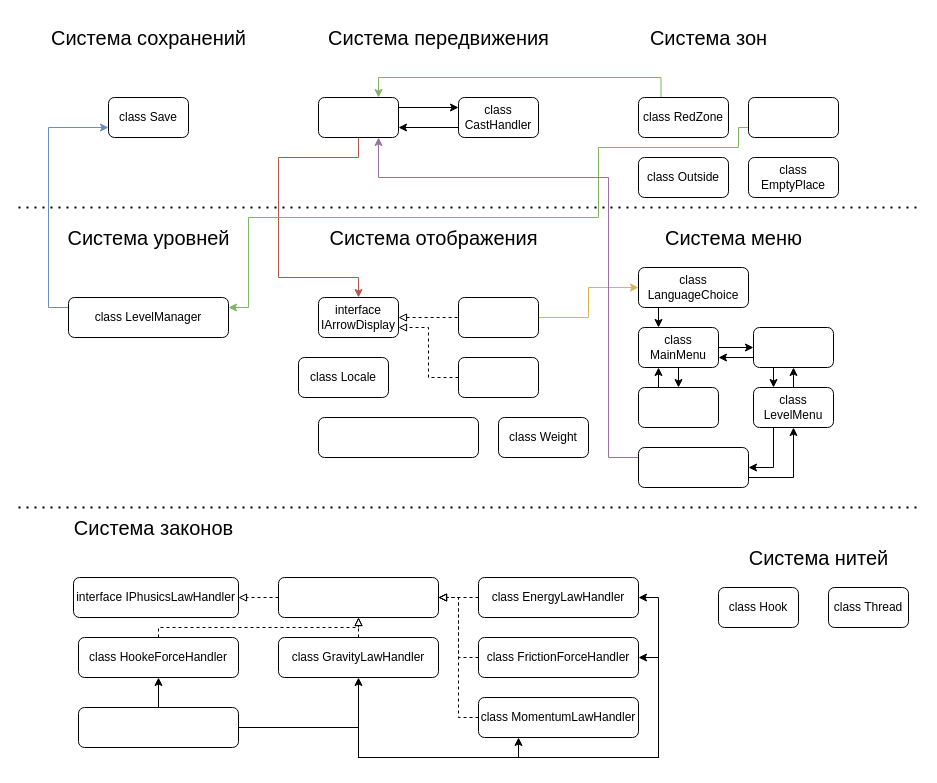
Image size: 937x783. Some labels were removed from this diagram. Here are the shapes that lost their labels. From the top down, the centre of each, then its label:
At (x=358, y=117): "class Movable".
At (x=793, y=117): "class GreenZone".
At (x=498, y=317): "class DemoA rrow".
At (x=793, y=347): "class SeasonMenu".
At (x=498, y=377): "class BootsA rrow".
At (x=678, y=407): "class SettingsMenu".
At (x=398, y=437): "class PlayerDefaulDisplay".
At (x=693, y=467): "class GameplayMenu".
At (x=358, y=597): "class PhusicsLawHandler".
At (x=158, y=727): "class LawsController".
